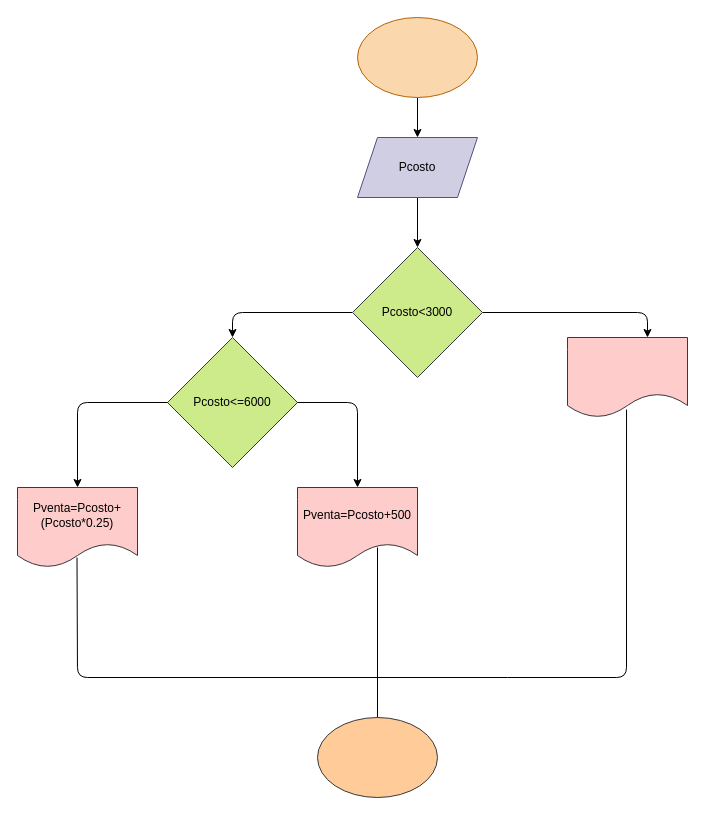
The diagram is 705 pixels wide and 815 high, and some of its shapes have lost their labels. Each missing label, with the centre of its shape:
FIN: [377,757]
INICIO: [417,57]
Pventa=Pcosto+(Pcosto*0.15): [627,377]
